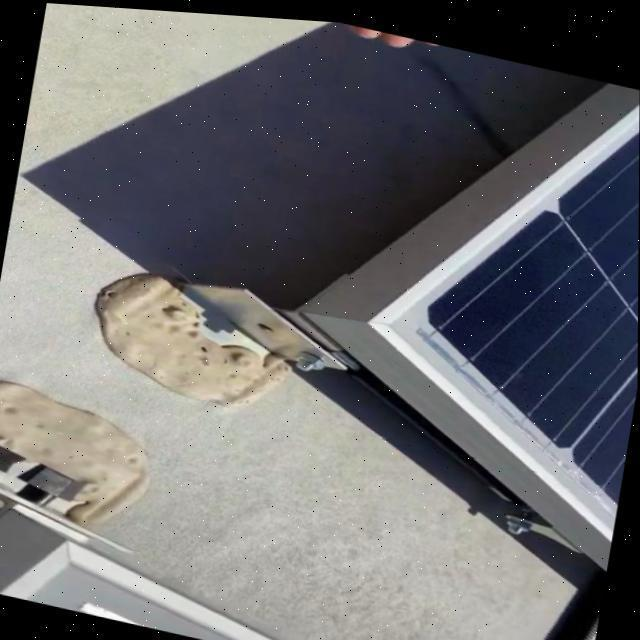Normal Solar Panel: (350, 31, 640, 534)
